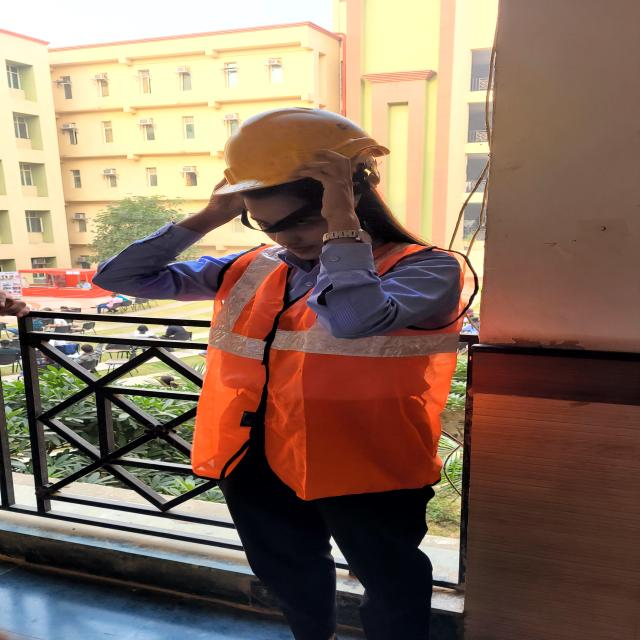safe: (138, 110, 486, 640)
